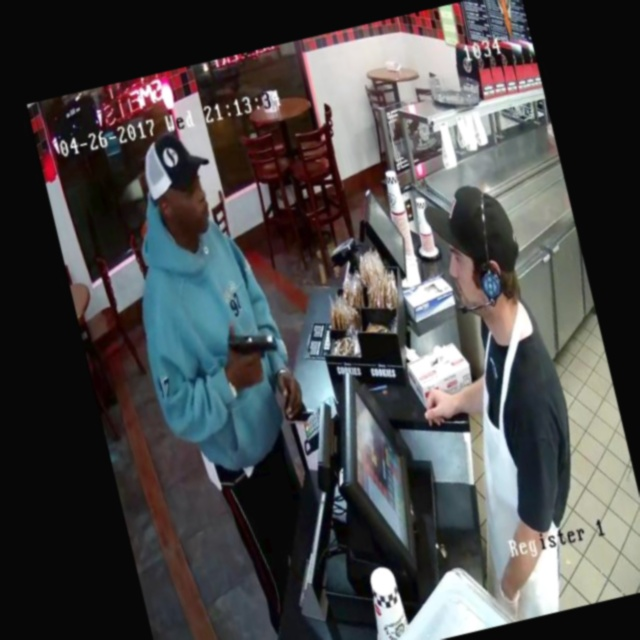gun: (217, 311, 290, 379)
